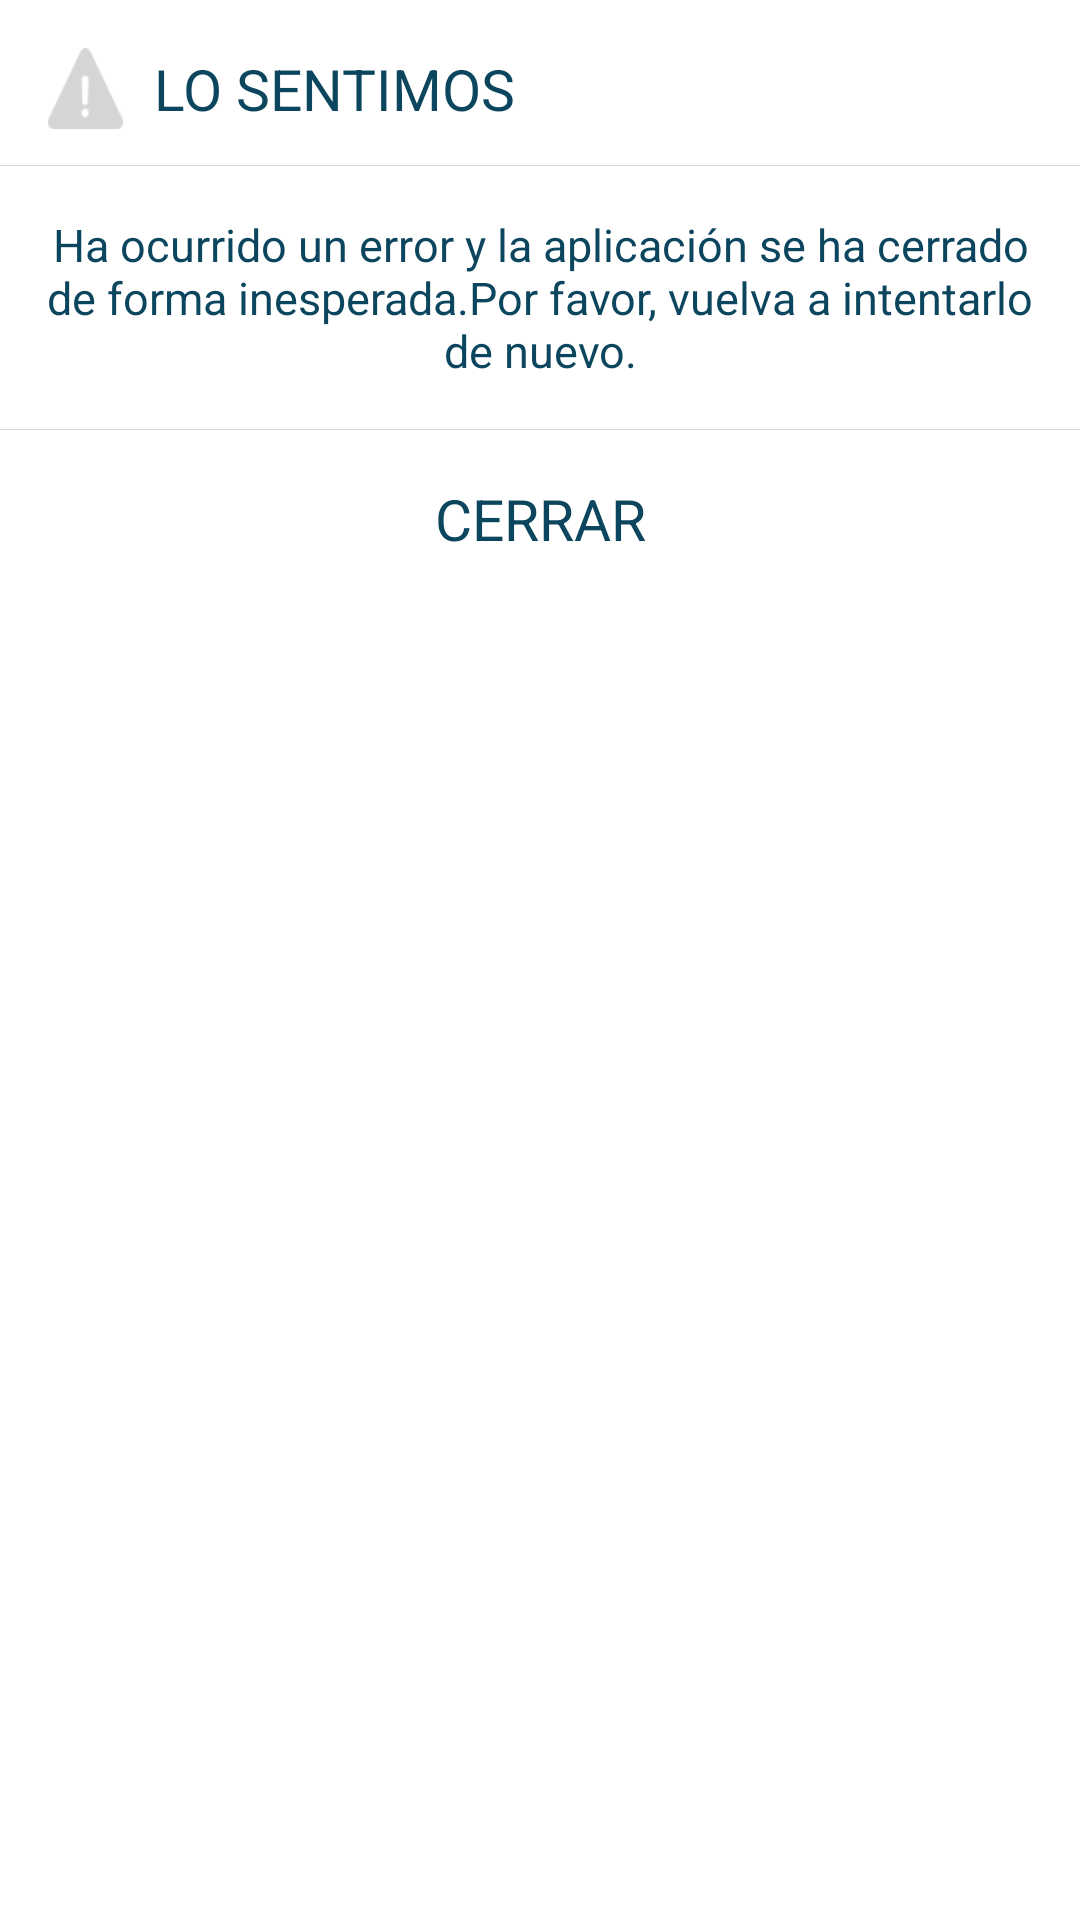

Named icons in this screenshot (1080*1920) and their bounding boxes, (x1, y1, x2, y2):
alerta: (48, 48, 123, 129)
